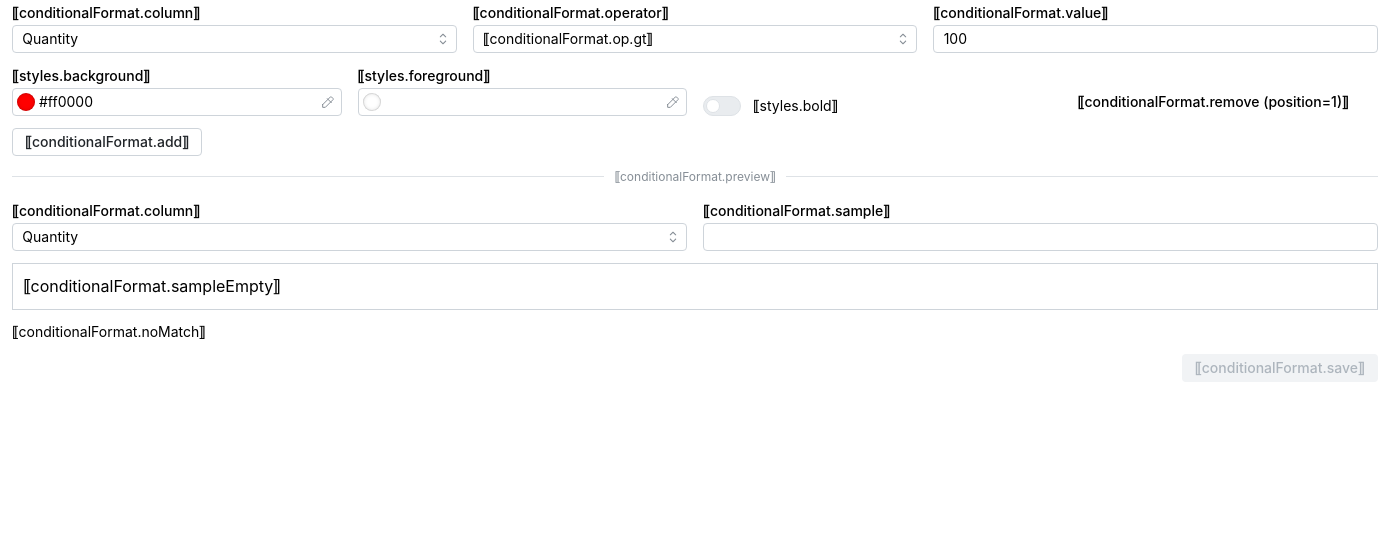
ConditionalFormatPanel › L9-26: відмова перечитування після 409 — ErrorAlert поруч, редактор із чернеткою лишається
Step 1. Replace the text in the field labelled "⟦conditionalFormat.value⟧" with "200" → x=1156, y=39, box [933, 25, 1378, 53]
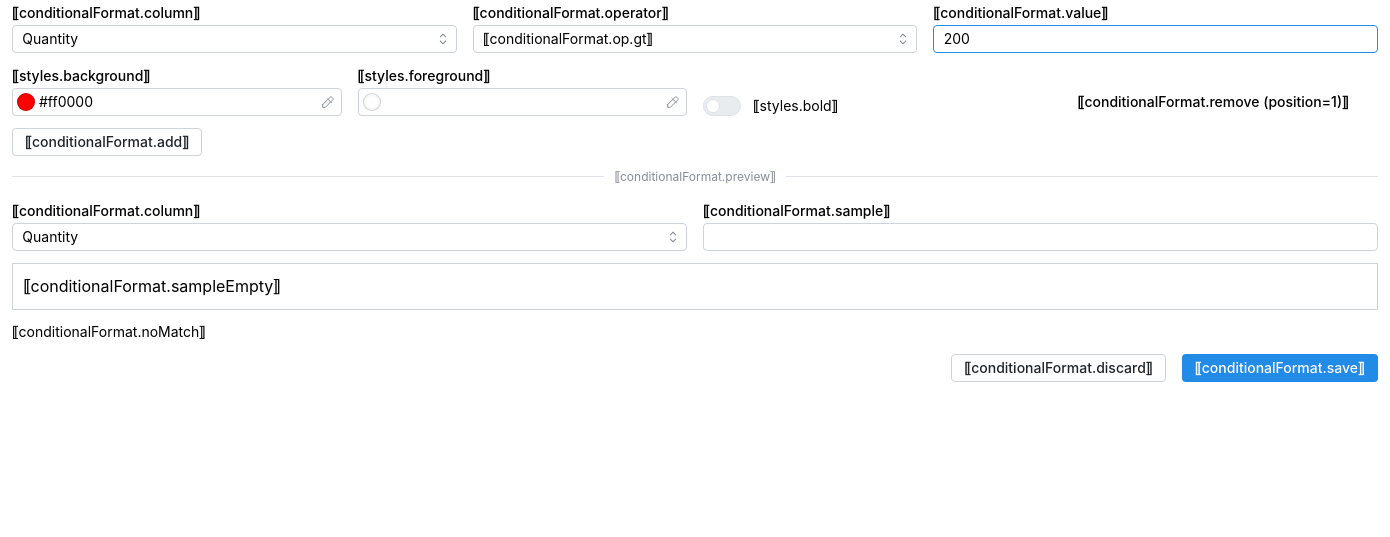
Step 2. Click the button "⟦conditionalFormat.save⟧" → x=1280, y=368, box [1182, 354, 1378, 382]
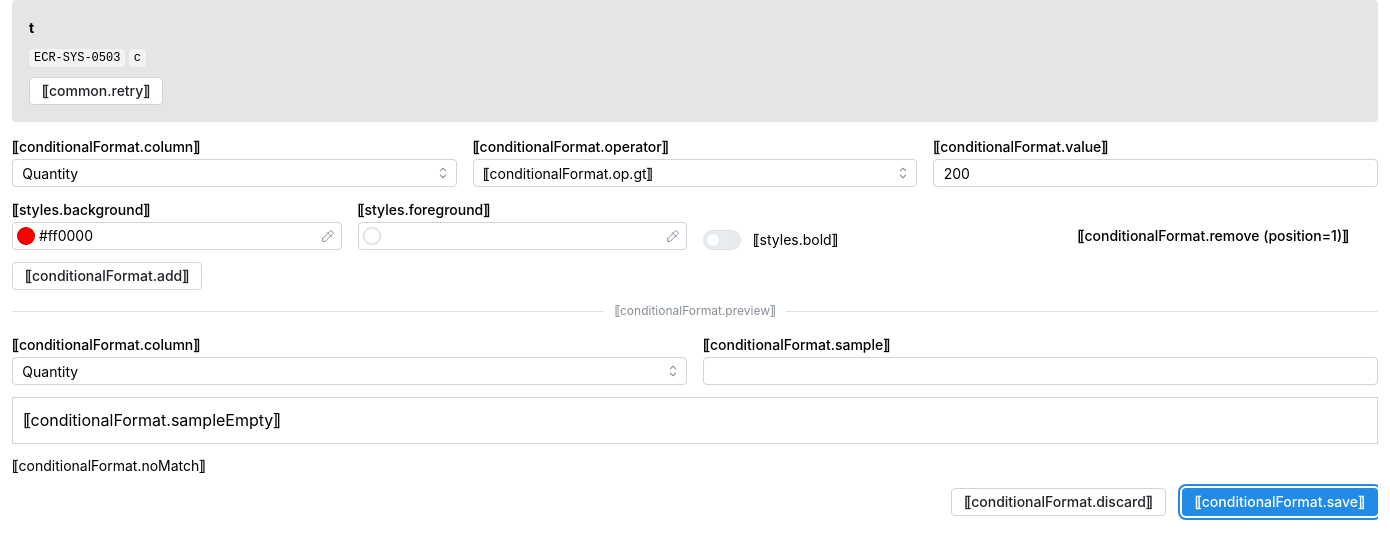
Expected: the button "⟦conditionalFormat.save⟧" is enabled, [1182, 488, 1378, 516]
Expected: the text "ECR-SYS-0503" is shown, [29, 49, 125, 67]
